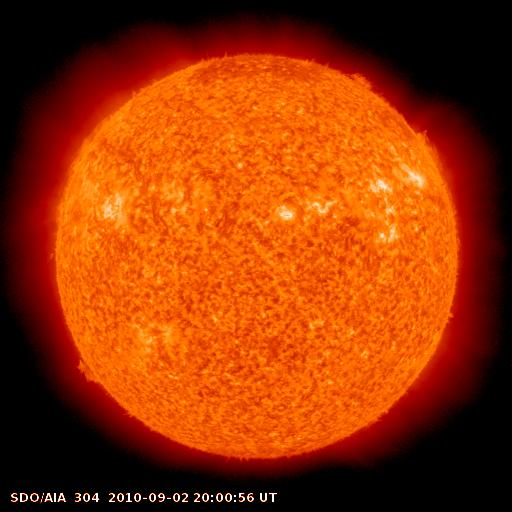prominence: (410, 120, 451, 180), (66, 348, 114, 394), (342, 62, 387, 97)
